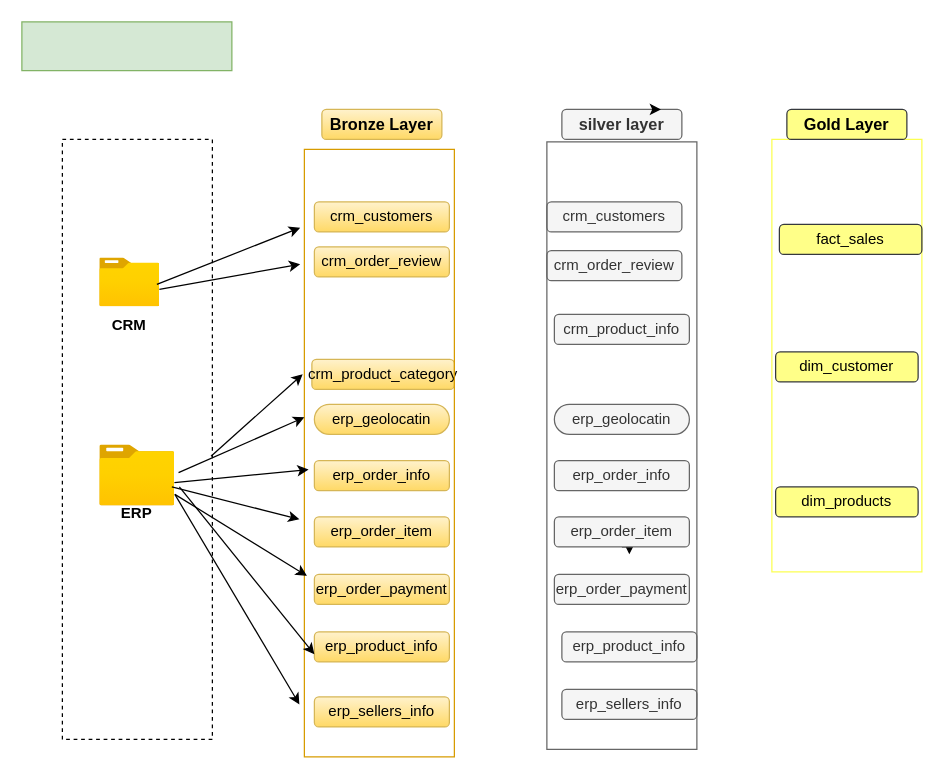
Some shapes in this 944 by 779 pixel diagram are drawn without their labels. The shapes that lost their labels are listed below. From the top down, each one's centre as x and y in pixels, then its label:
At (126,46): "DATA FLOW DIAGRAM".
At (137,123): "sources".
